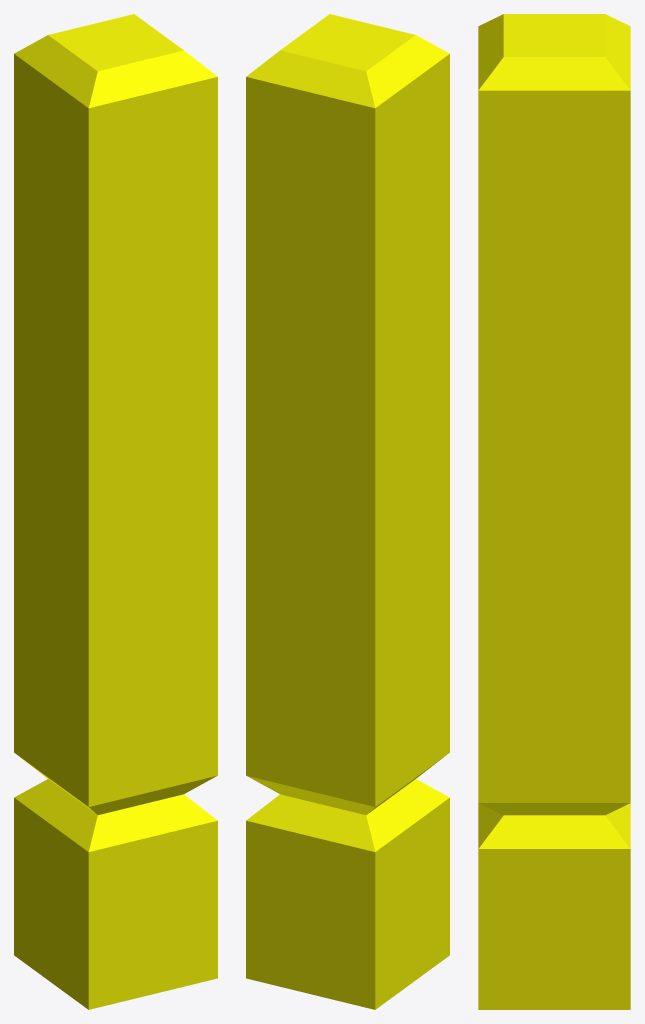
The model's file is kaykit-pillar-a.glb.
3 views of the same model, side by side, from view 1: azimuth 30°, elevation 25°; view 2: azimuth 150°, elevation 25°; view 3: azimuth 270°, elevation 25° (orthographic).
Parts seen in each view (by area): view 1: Pillar_A; view 2: Pillar_A; view 3: Pillar_A.
Boxes of the visible parts, x1,y1,x2,y2 form: Pillar_A: (14, 14, 217, 1009); Pillar_A: (246, 14, 449, 1009); Pillar_A: (478, 14, 630, 1009).
Size of the model in its own units: 0.6001 by 4.1 by 0.6001.
